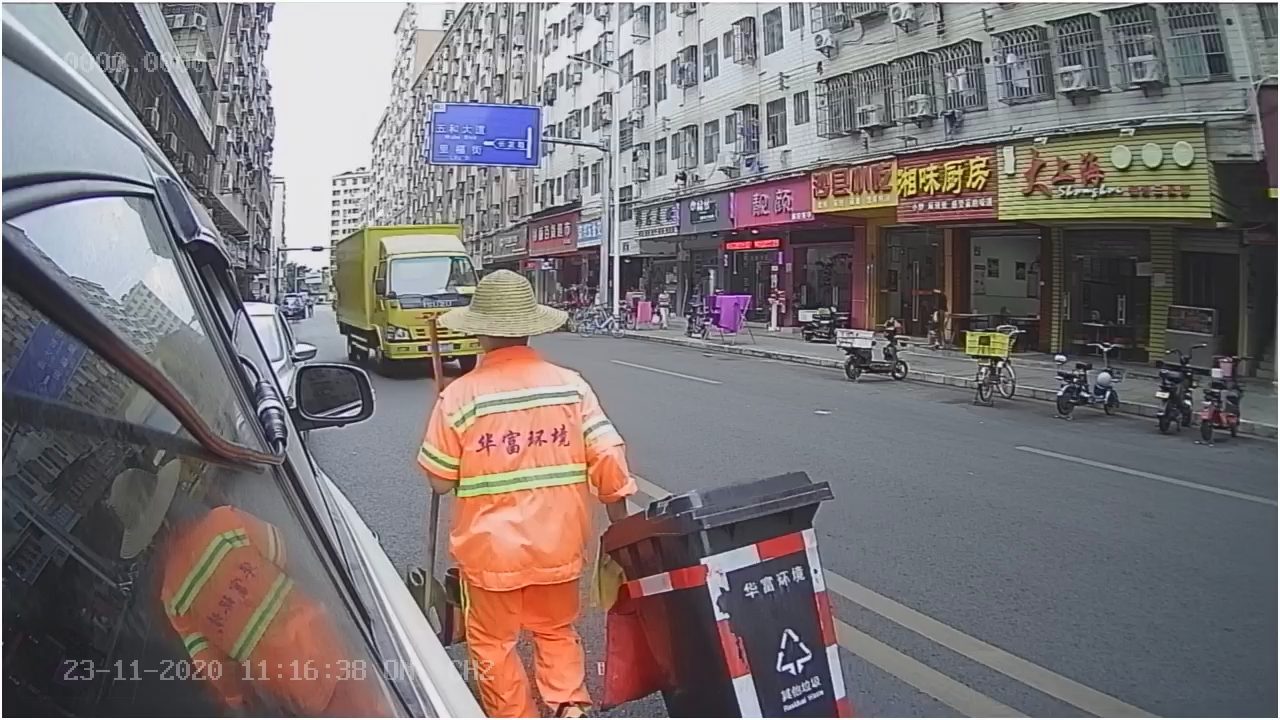person: (441, 265, 639, 509)
